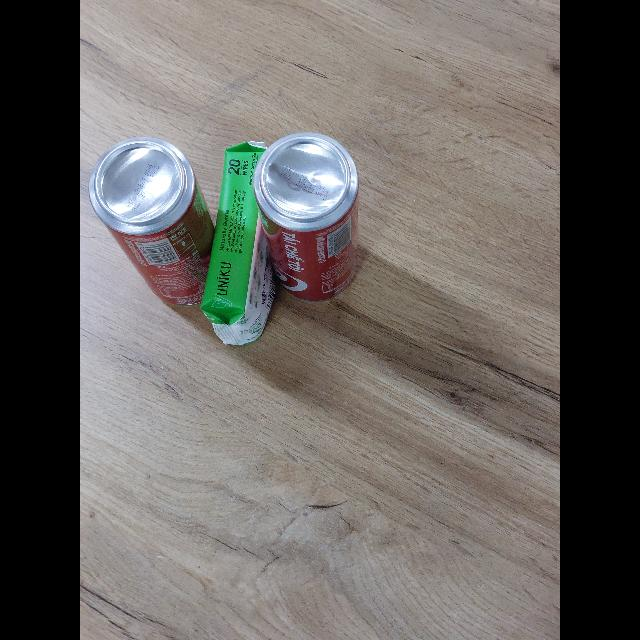coca_cola: (89, 137, 214, 305), (253, 133, 358, 301)
khan_giay: (201, 142, 275, 345)
